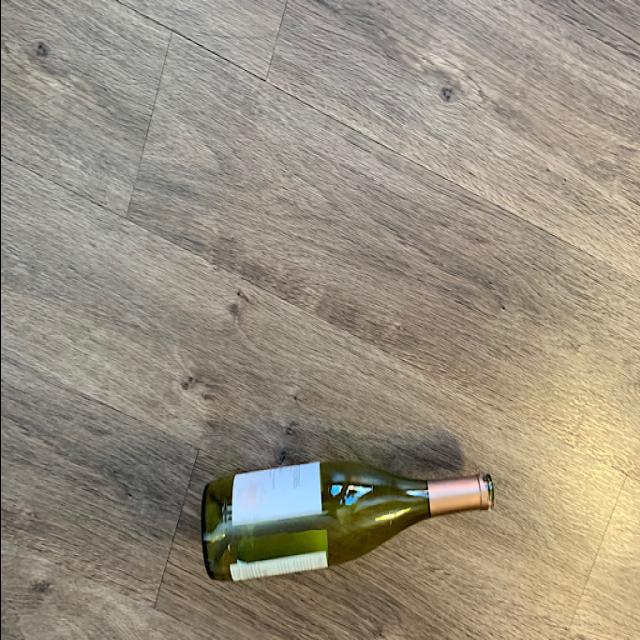litter: (198, 458, 498, 588)
